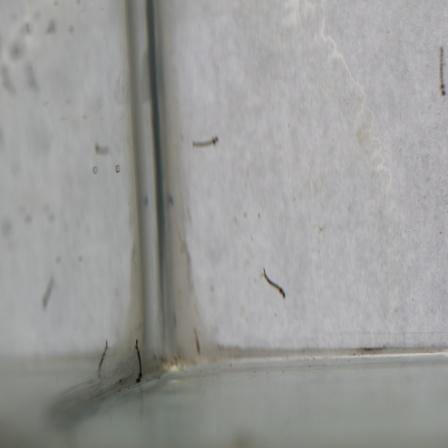Jentik-Nyamuk: (129, 337, 149, 387), (260, 267, 289, 301)
